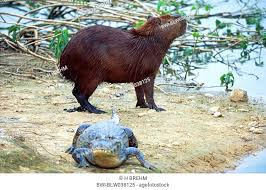capivara: (59, 12, 189, 114)
